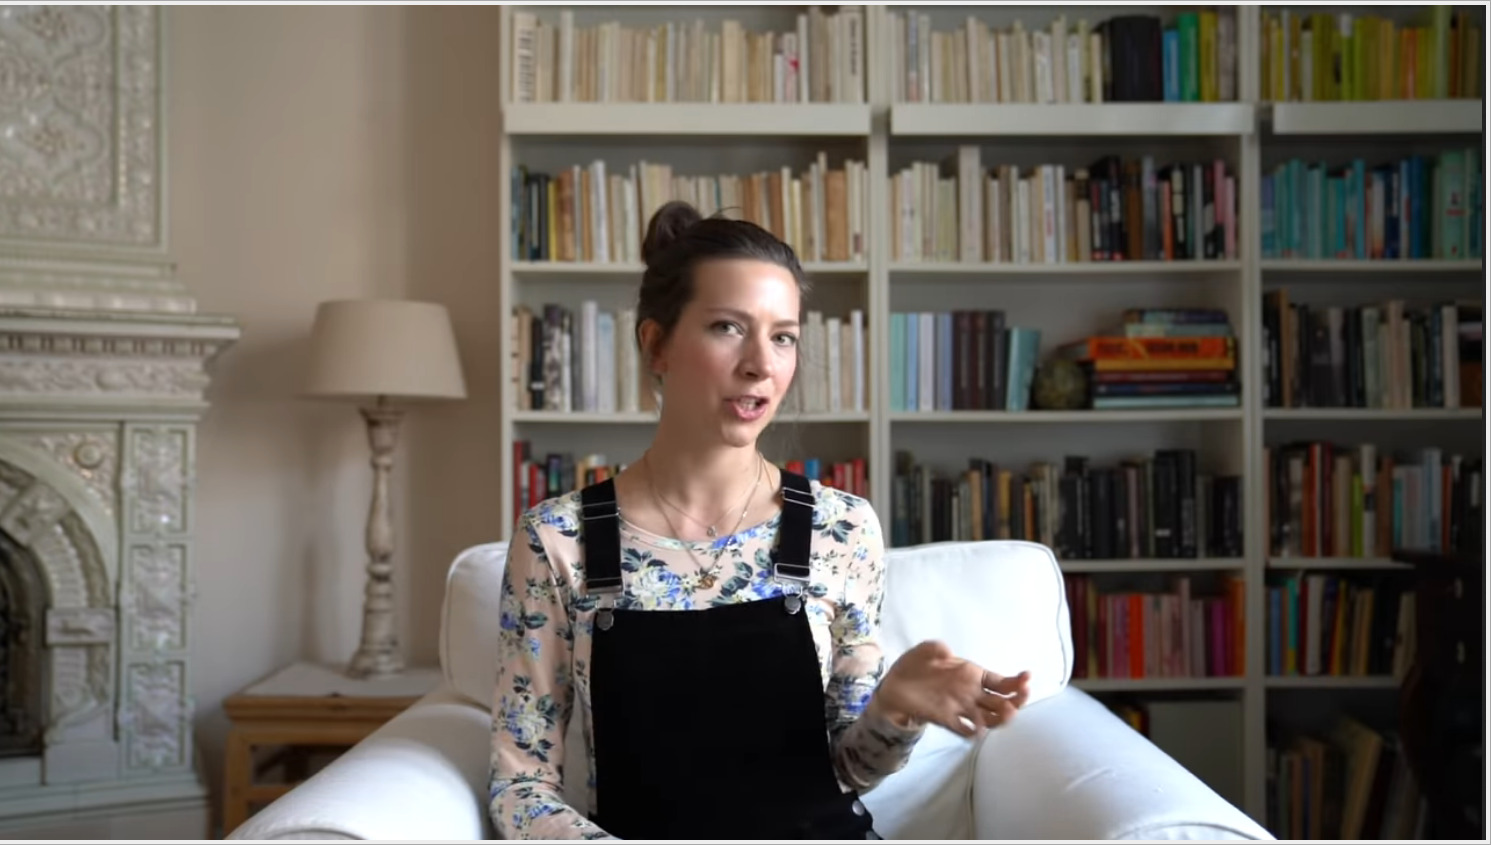hand: (874, 633, 1041, 746)
